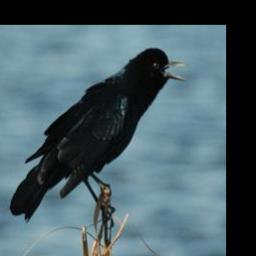Crow: (10, 48, 188, 228)
